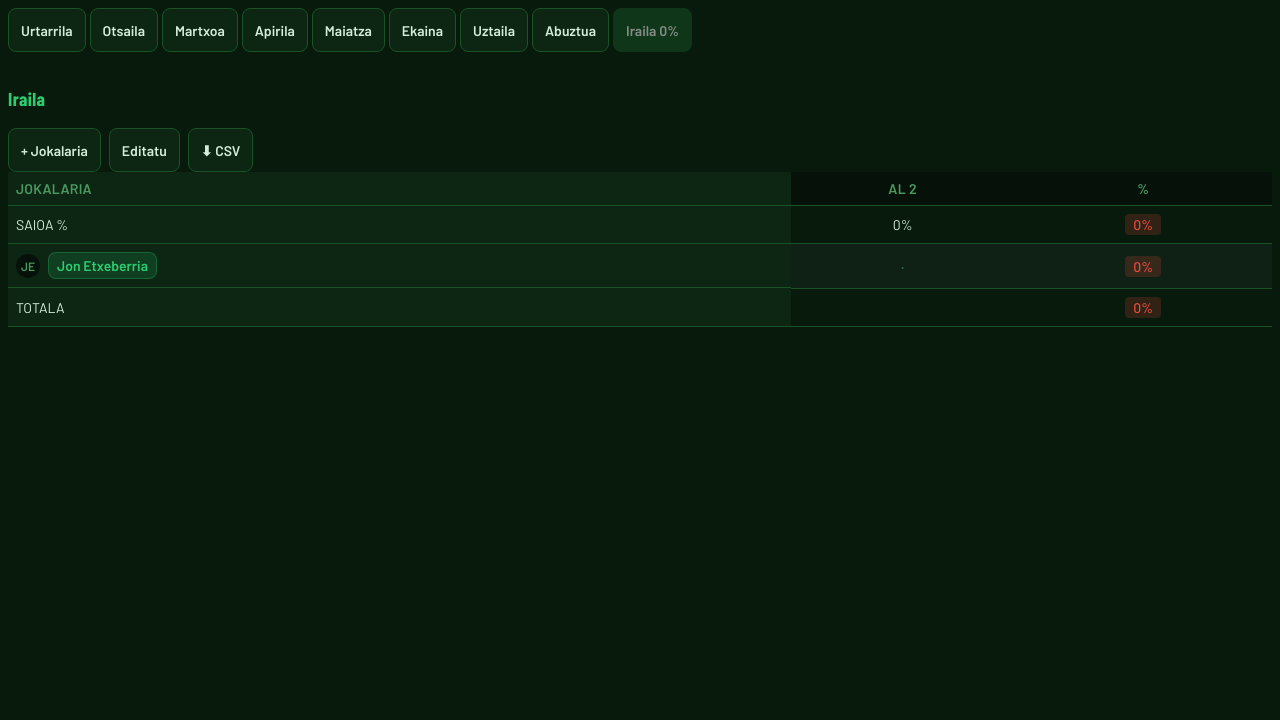
Test case: AsistenciaTab › ficha overlay shows season stats and monthly breakdown
Click the button "Jon Etxeberria".
click(102, 266)  # box [48,252,157,279]
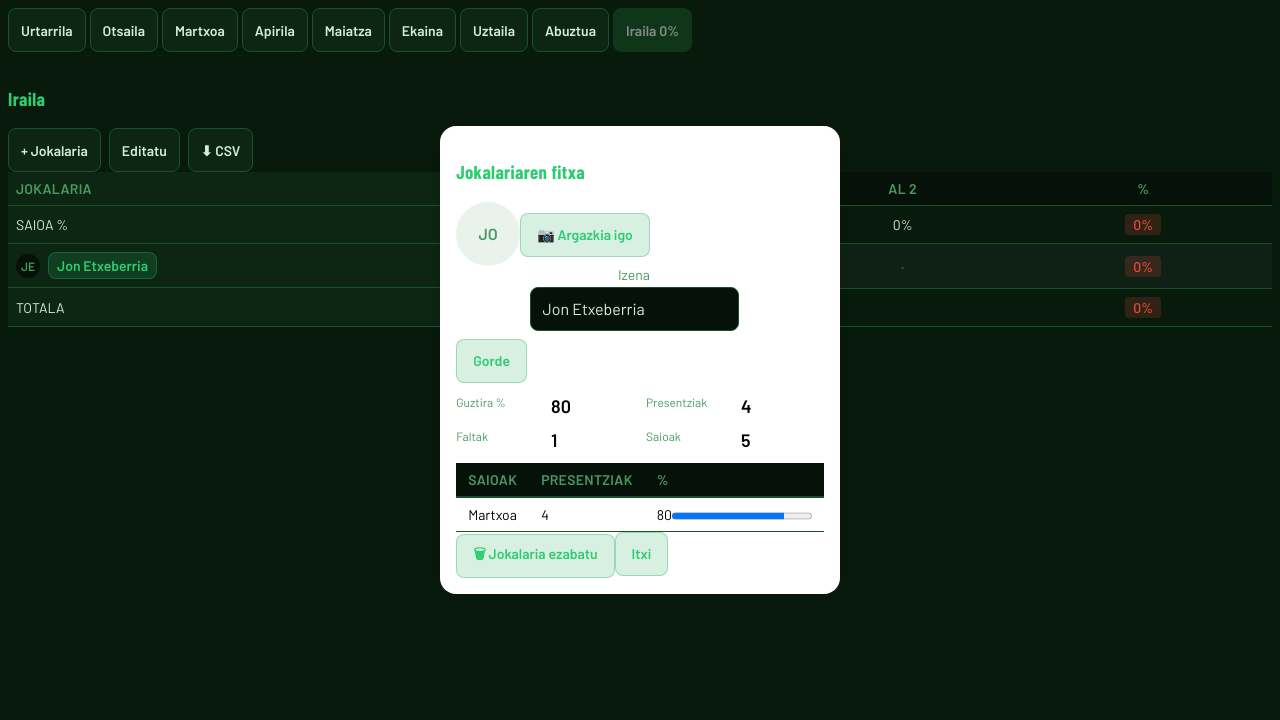
Expected: the text "80" is shown, [551,395,571,417]
Expected: the text "4" is shown, [741,395,751,417]
